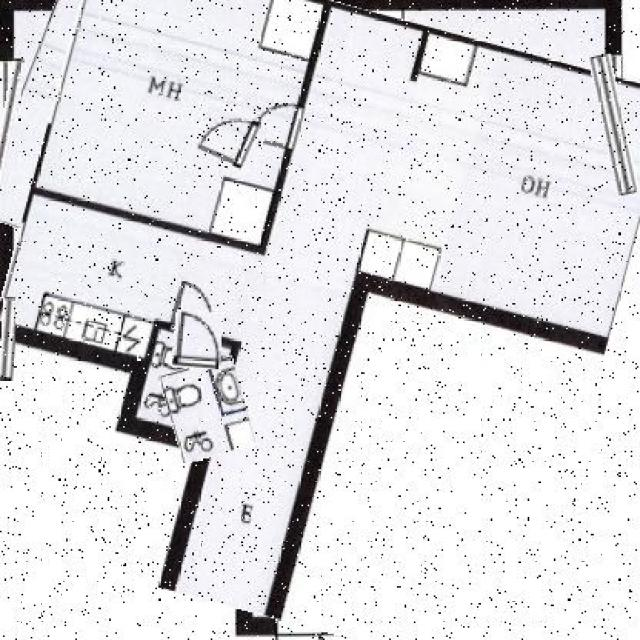door: (196, 104, 266, 168), (176, 309, 222, 369)
window: (597, 54, 631, 195), (0, 58, 18, 195), (0, 297, 14, 380)
zone: (0, 0, 638, 640), (0, 0, 263, 277), (164, 360, 250, 460)
